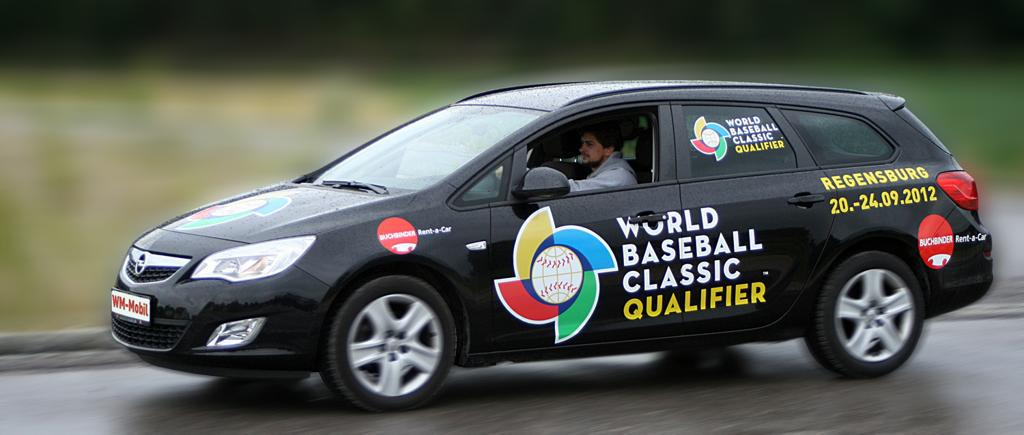face: (580, 134, 604, 166)
